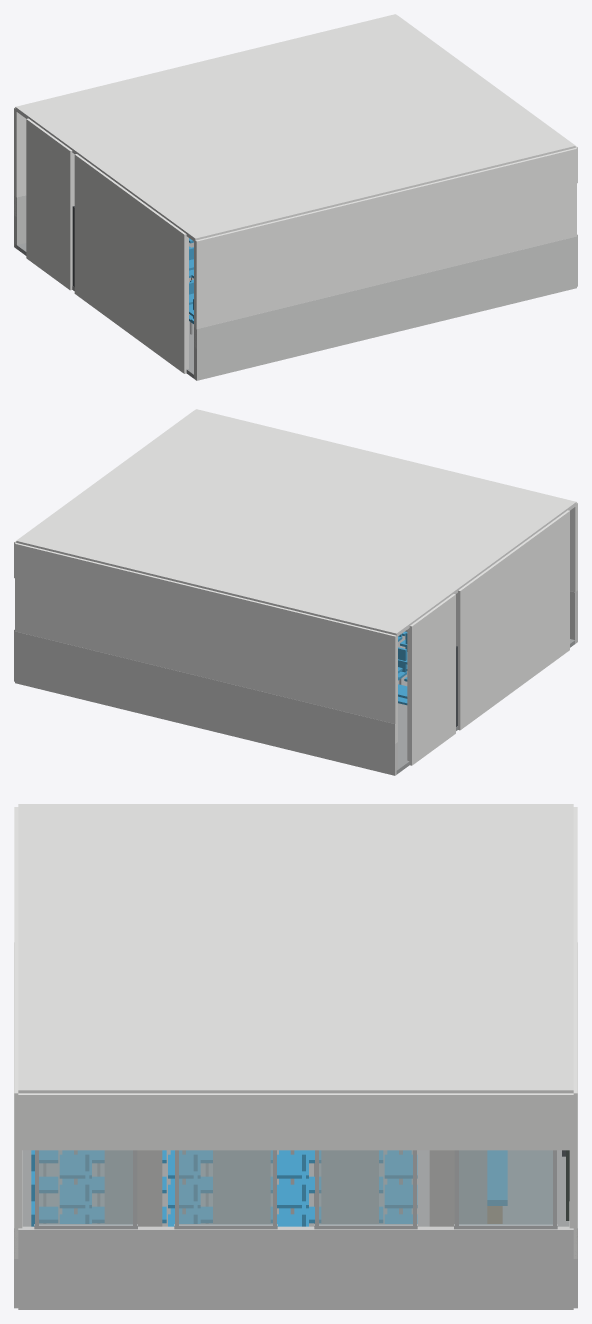
Rendered from classroom.glb.
3 views of the same model, one above another, from view 1: azimuth 30°, elevation 25°; view 2: azimuth 150°, elevation 25°; view 3: azimuth 270°, elevation 25° (orthographic). The views are drawn at different scales.
Visible parts, largest first — view 1: CLS_Ceiling, CLS_BackWall_Upper, CLS_BackWall_Lower, CLS_LeftWall_B, CLS_LeftWall_A, CLS_FrontWall_Upper, CLS_FrontWall_Lower; view 2: CLS_Ceiling, CLS_FrontWall_Upper, CLS_FrontWall_Lower, CLS_LeftWall_B, CLS_LeftWall_A, CLS_Floor, CLS_BackWall_Upper; view 3: CLS_Ceiling, CLS_RightLower, CLS_RightUpperTop, CLS_Floor, CLS_Window_1_Glass, CLS_Window_2_Glass, CLS_Window_3_Glass, CLS_Window_4_Glass, CLS_Curtain_2, CLS_Curtain_3, CLS_Curtain_1, CLS_Curtain_4 (+10 smaller).
Part boxes in pixels (left/top/right/bottom): CLS_Ceiling: left=15, top=14, right=575, bottom=241; CLS_BackWall_Upper: left=194, top=148, right=576, bottom=348; CLS_BackWall_Lower: left=194, top=236, right=576, bottom=380; CLS_LeftWall_B: left=74, top=154, right=188, bottom=373; CLS_LeftWall_A: left=26, top=118, right=74, bottom=290; CLS_FrontWall_Upper: left=14, top=107, right=26, bottom=216; CLS_FrontWall_Lower: left=14, top=195, right=26, bottom=248; CLS_Ceiling: left=16, top=409, right=576, bottom=636; CLS_FrontWall_Upper: left=15, top=543, right=397, bottom=743; CLS_FrontWall_Lower: left=15, top=631, right=397, bottom=775; CLS_LeftWall_B: left=456, top=510, right=569, bottom=730; CLS_LeftWall_A: left=407, top=594, right=455, bottom=765; CLS_Floor: left=396, top=635, right=574, bottom=774; CLS_BackWall_Upper: left=570, top=502, right=577, bottom=592; CLS_Ceiling: left=18, top=804, right=573, bottom=1093; CLS_RightLower: left=18, top=1226, right=573, bottom=1309; CLS_RightUpperTop: left=18, top=1093, right=573, bottom=1150; CLS_Floor: left=22, top=1150, right=569, bottom=1226; CLS_Window_1_Glass: left=459, top=1150, right=552, bottom=1225; CLS_Window_2_Glass: left=319, top=1150, right=412, bottom=1225; CLS_Window_3_Glass: left=179, top=1150, right=272, bottom=1225; CLS_Window_4_Glass: left=39, top=1150, right=132, bottom=1225; CLS_Curtain_2: left=321, top=1150, right=378, bottom=1223; CLS_Curtain_3: left=213, top=1150, right=270, bottom=1223; CLS_Curtain_1: left=429, top=1150, right=486, bottom=1226; CLS_Curtain_4: left=105, top=1150, right=162, bottom=1226.
Size of the model in its own units: 10.12 by 3.55 by 8.33.
